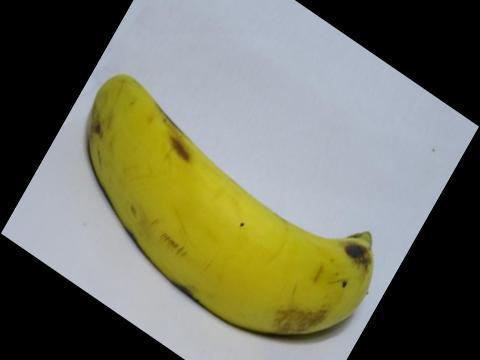freshripe: (71, 58, 393, 349)
